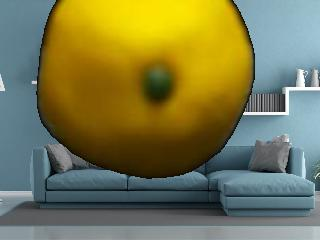lemon: (39, 0, 254, 186)
